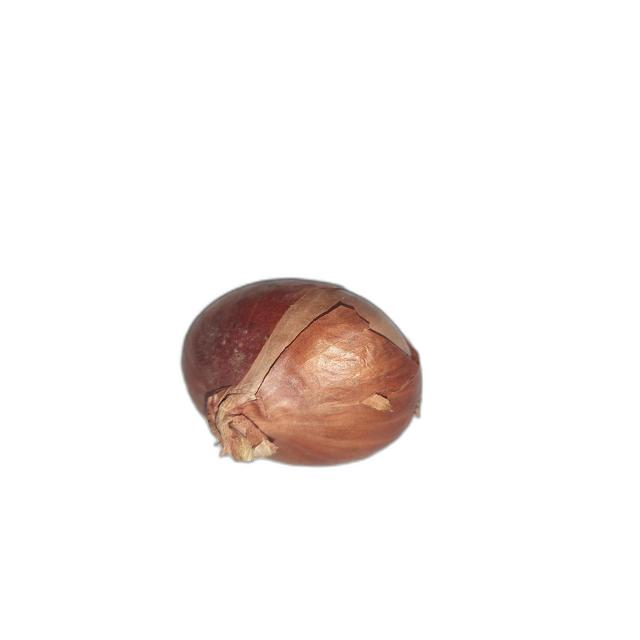onion: (181, 277, 422, 467)
